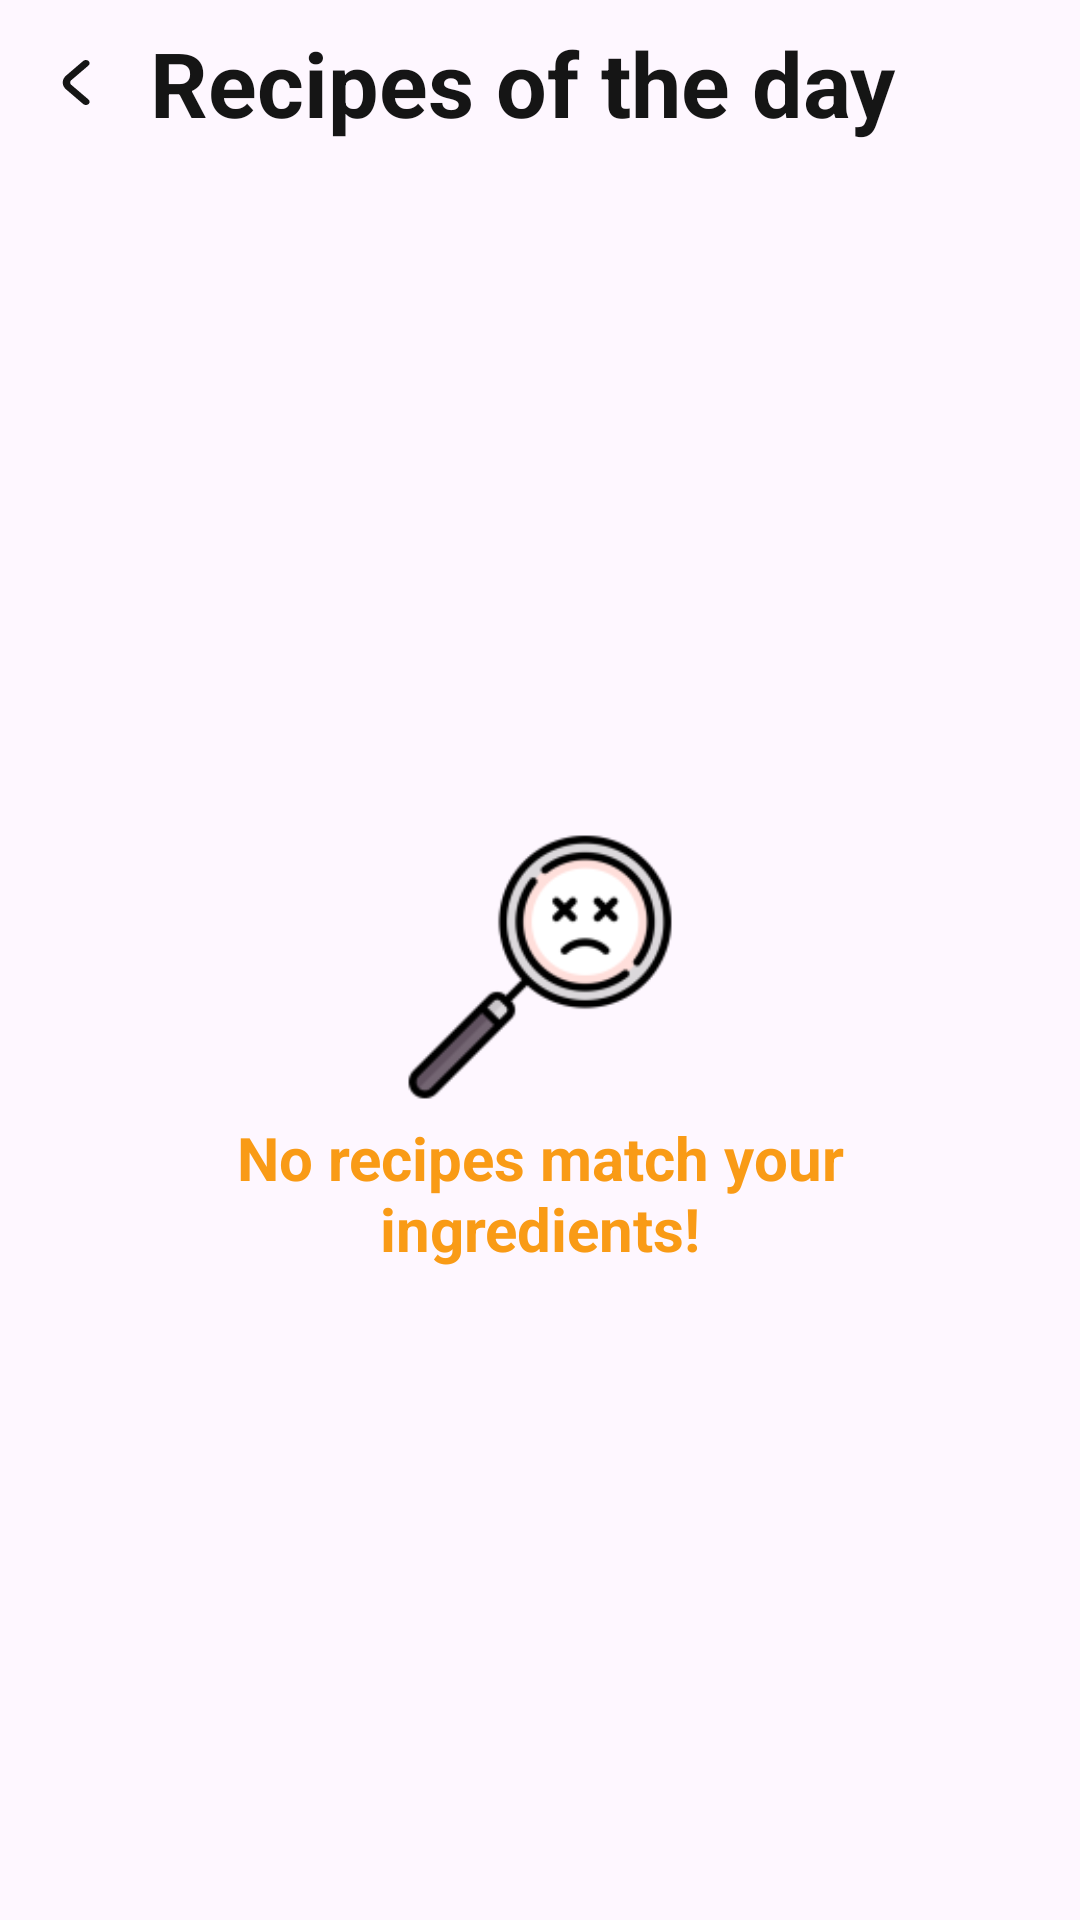

Icon bounding boxes for this 1080*1920 phone screenshot, format (x1, y1, x2, y2):
not found: (408, 835, 672, 1099)
